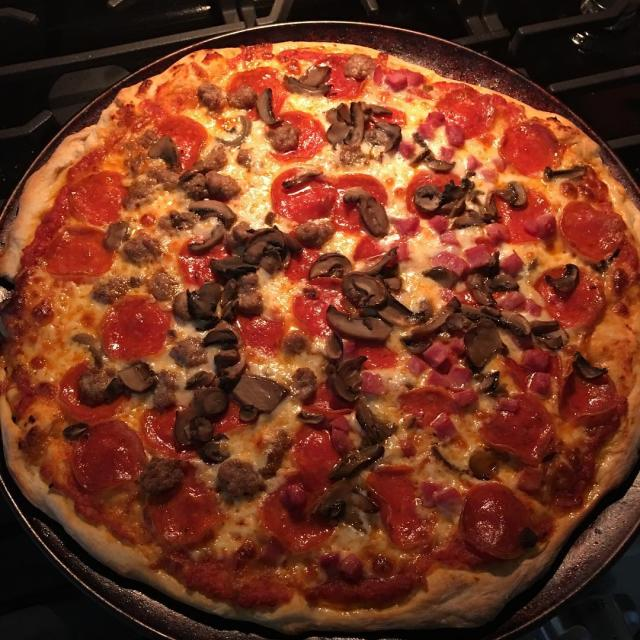mushrooms: (459, 302, 531, 369), (211, 249, 267, 331), (174, 370, 228, 450), (323, 99, 402, 149), (412, 177, 494, 224), (319, 296, 396, 346), (306, 477, 383, 524), (326, 333, 371, 410), (464, 258, 524, 315), (206, 322, 253, 390), (188, 194, 237, 255), (235, 221, 301, 263), (233, 373, 283, 425), (346, 184, 390, 236), (408, 299, 453, 348), (174, 278, 224, 319), (344, 272, 390, 308), (337, 441, 384, 476), (113, 357, 156, 395), (292, 62, 331, 102), (306, 254, 355, 285), (150, 135, 187, 172), (251, 84, 284, 125), (534, 313, 568, 352), (574, 348, 605, 382), (544, 159, 580, 185), (546, 261, 577, 290), (296, 406, 317, 426)
pepperoni: (453, 475, 540, 566), (58, 418, 146, 497), (373, 462, 441, 547), (268, 162, 354, 228), (260, 477, 334, 552), (98, 290, 168, 365), (153, 473, 220, 548), (45, 219, 122, 279), (290, 277, 346, 353), (230, 299, 295, 363), (559, 195, 623, 259), (488, 392, 548, 459), (487, 175, 547, 240), (558, 365, 623, 424), (55, 357, 117, 418), (538, 264, 599, 326), (66, 165, 138, 216), (498, 118, 558, 173), (224, 64, 289, 114), (430, 87, 487, 143), (265, 110, 321, 163), (333, 170, 381, 230), (160, 111, 210, 167), (176, 237, 221, 284), (292, 425, 334, 473)
pizza: (0, 27, 640, 640)
